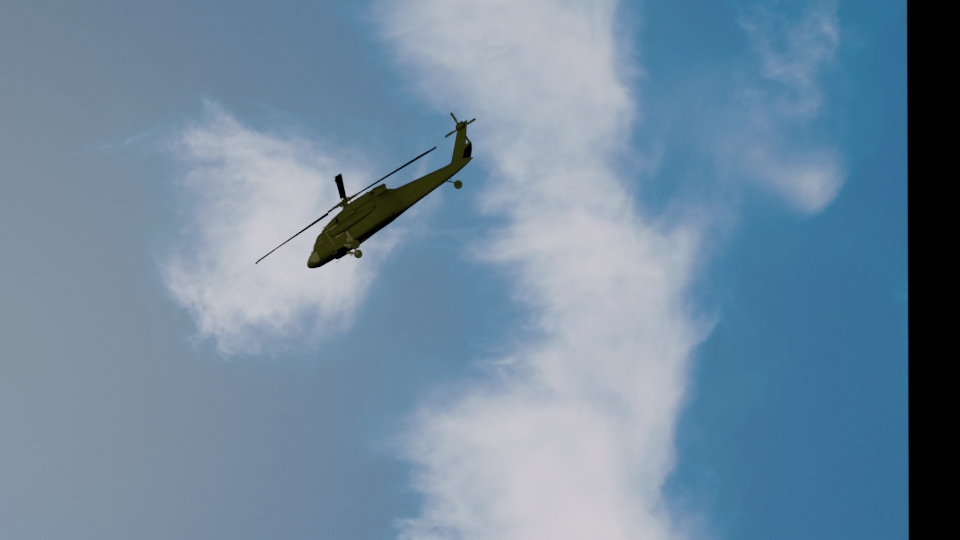heli: (305, 106, 477, 268)
